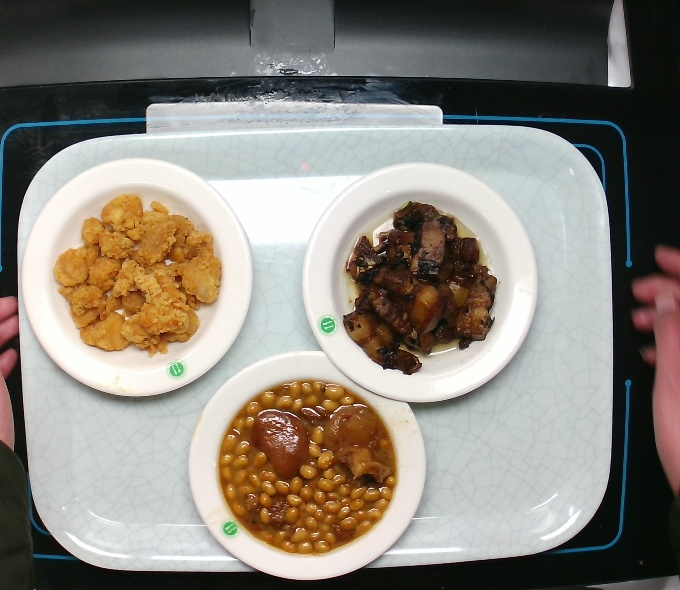wcq-GanCaiRou: (333, 194, 506, 377)
wcq-HuangDouZhuJiao: (213, 372, 401, 570)
wcq-JiMiHua: (46, 184, 233, 363)
